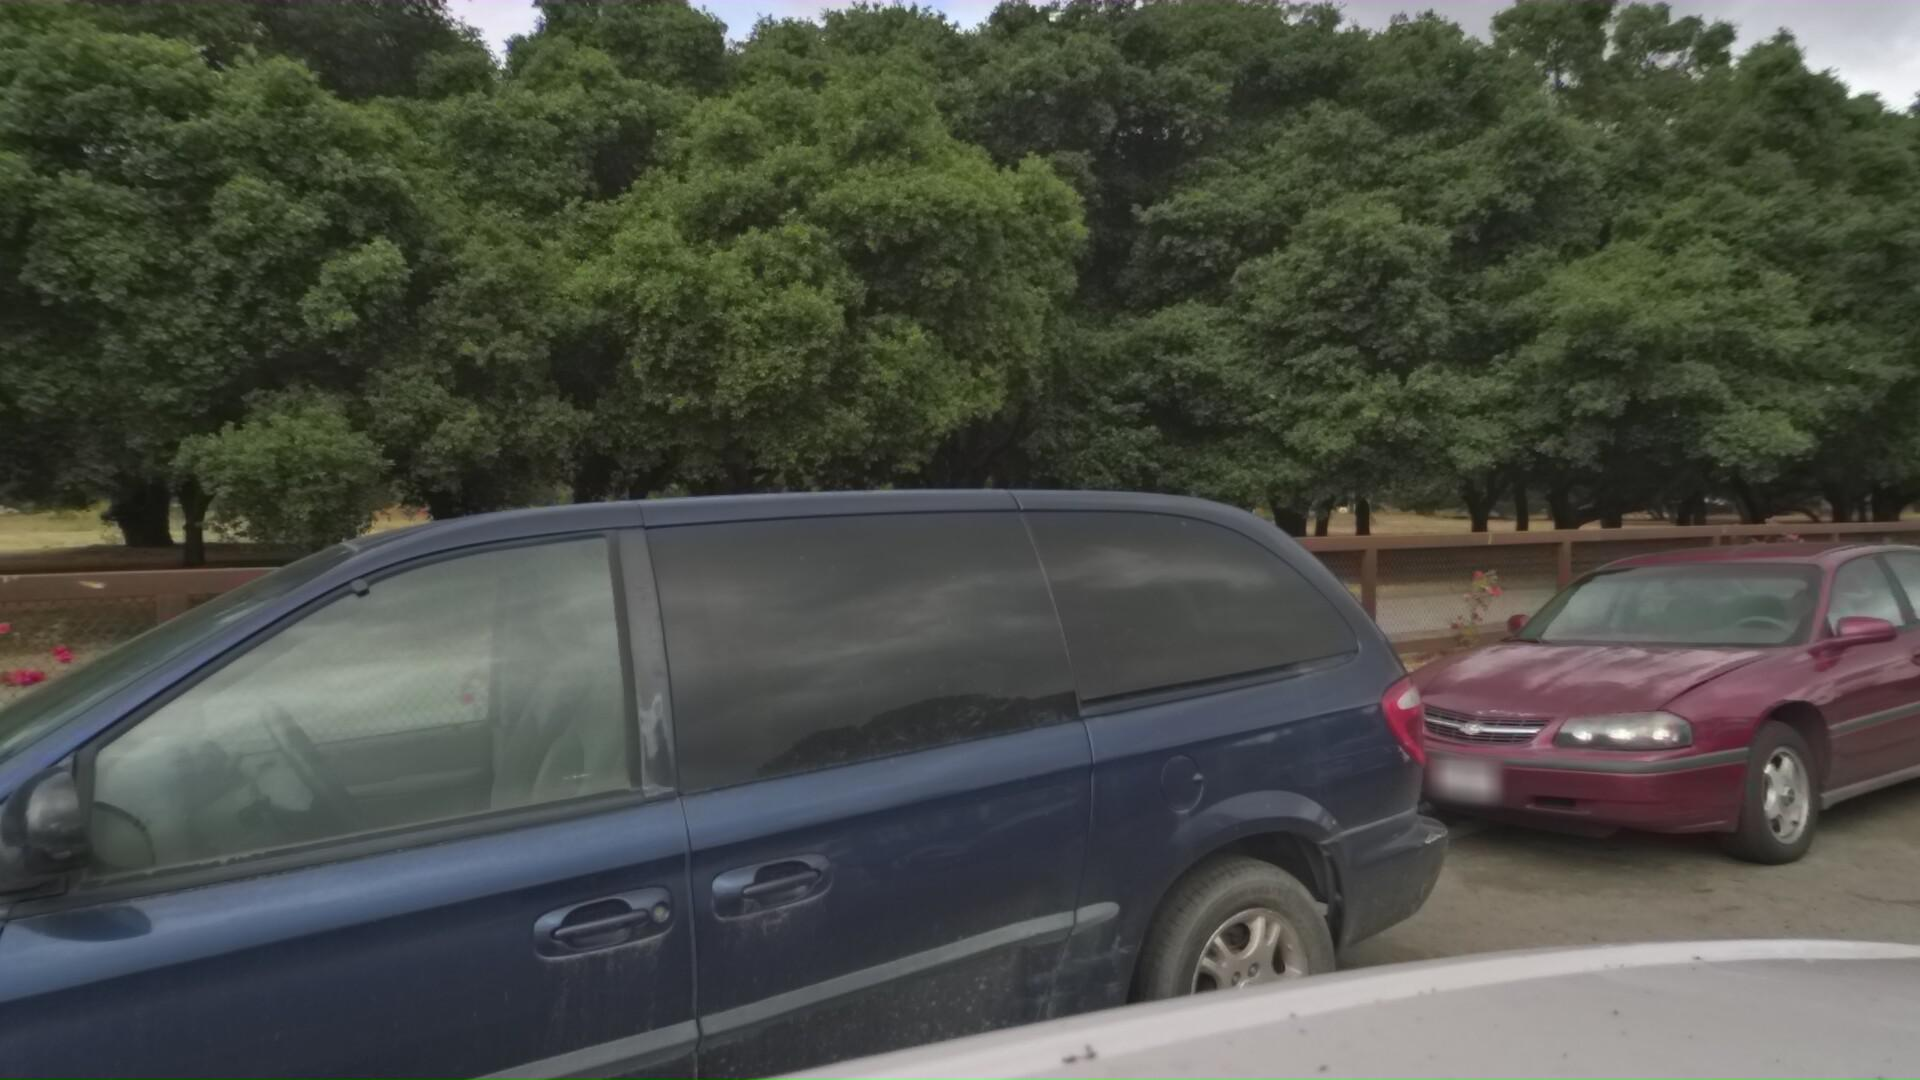car: (0, 401, 1476, 1080), (1312, 524, 1920, 943), (1900, 516, 1920, 738)
